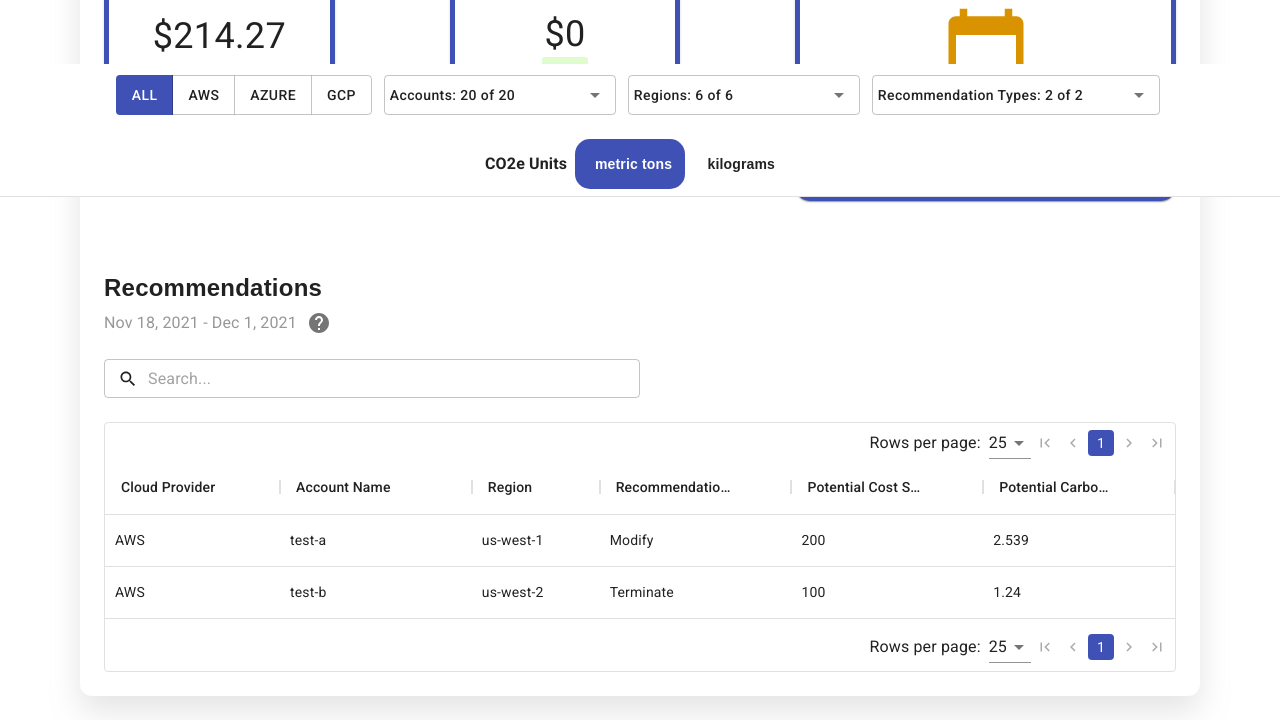
Scenario: Recommendations Page › re-displays the side panel when the close button and then the same recommendation row is clicked
(page scrolled)
Click the text "test-a" at [376, 541], box [280, 515, 472, 567]
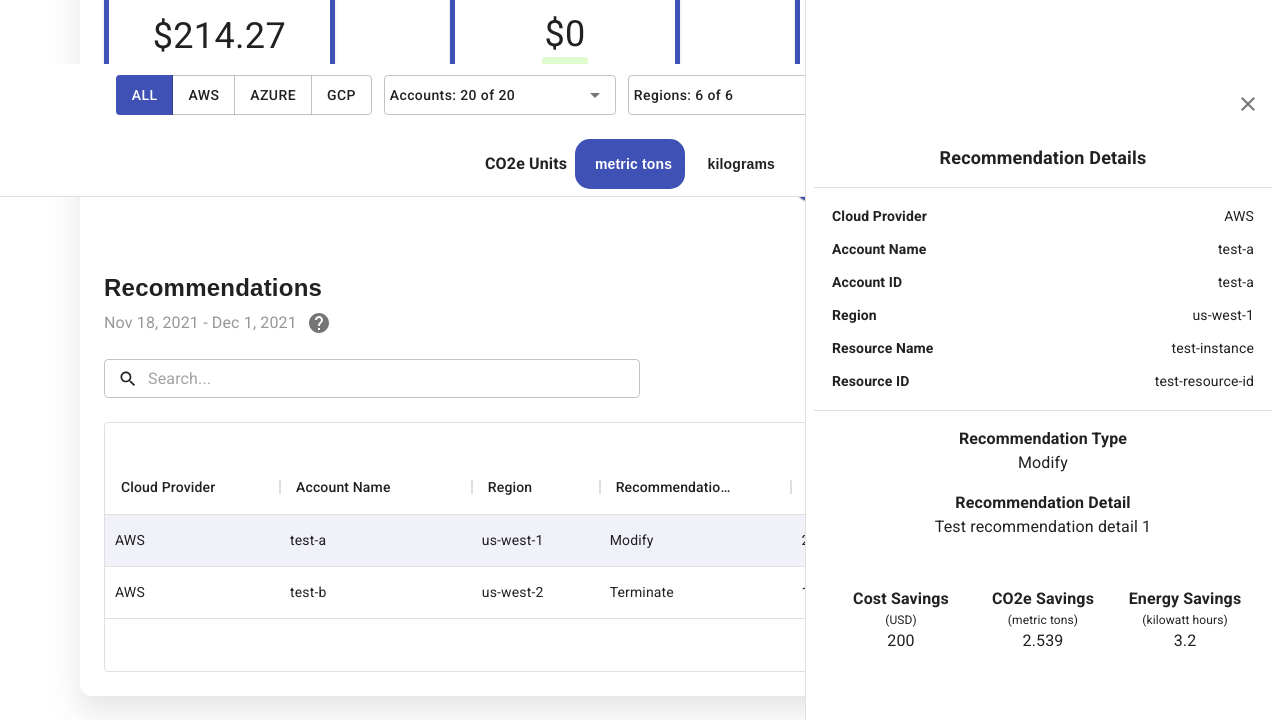
Click the button with test id "closeIcon" at [1248, 104], box [1224, 80, 1272, 128]
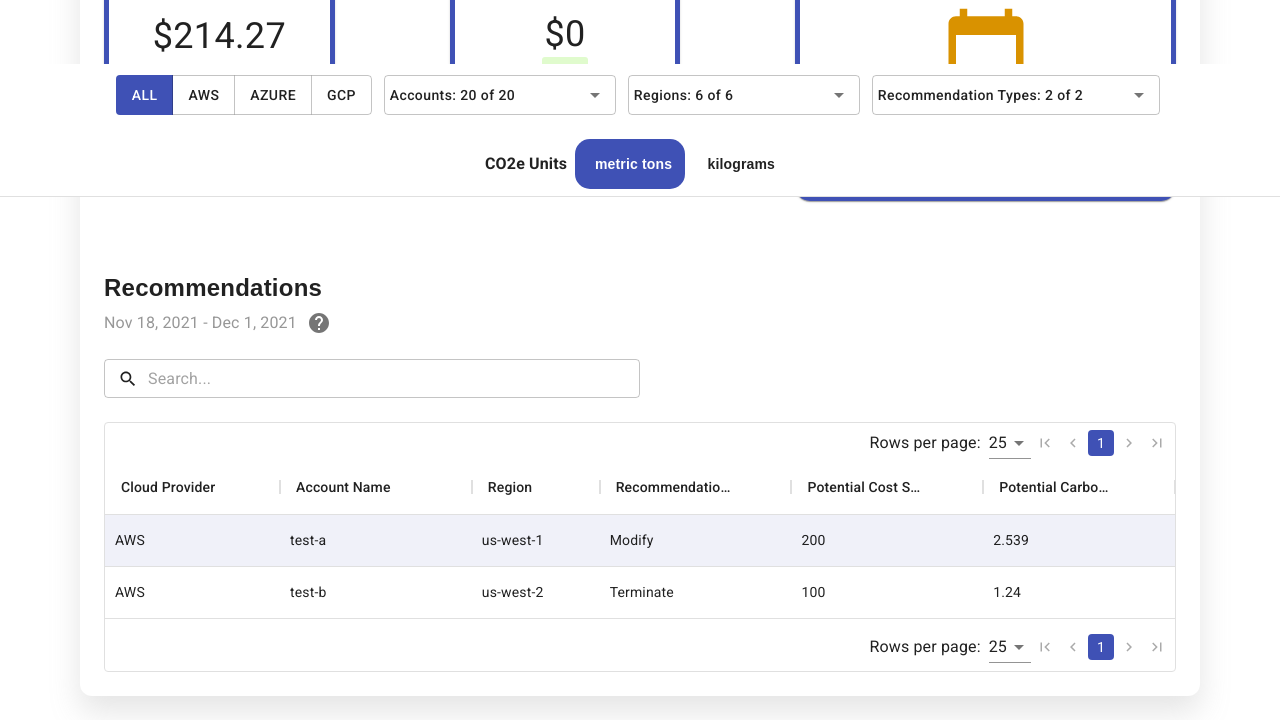
Click the text "test-a" at [376, 541], box [280, 515, 472, 567]
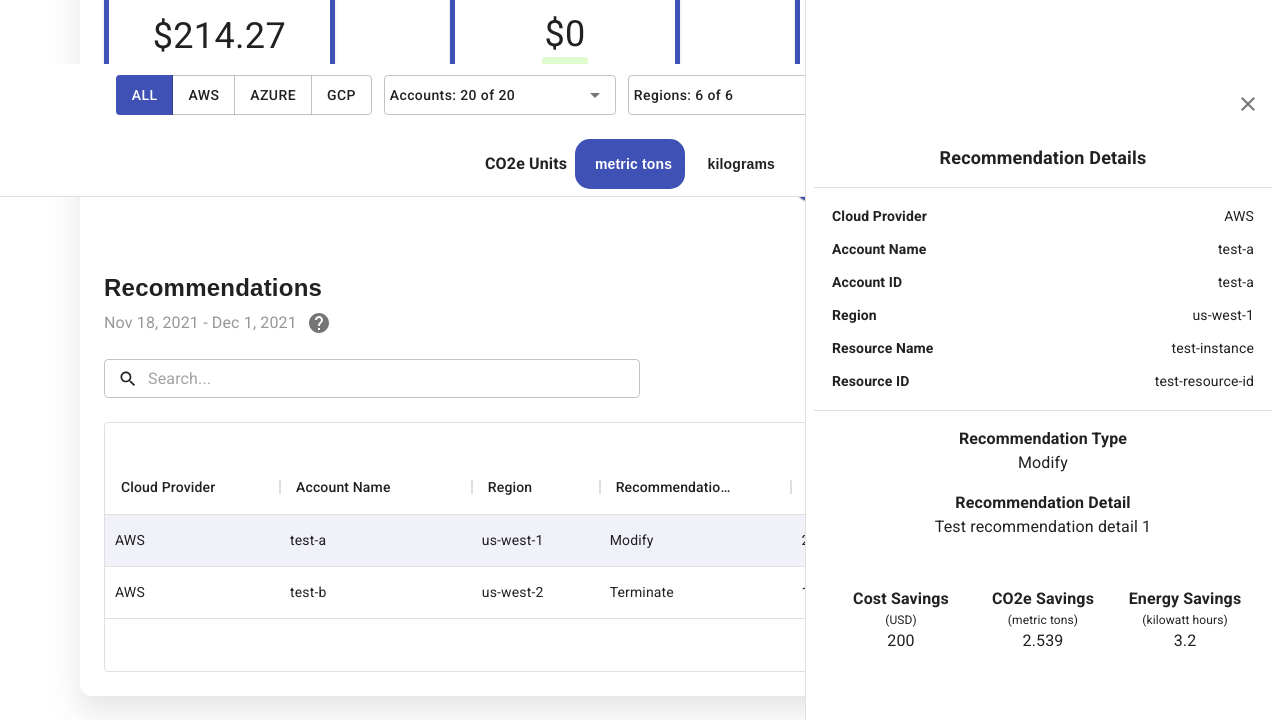
Now the heading "Recommendation Details" is shown, box [940, 147, 1146, 168]
Now the text "Test recommendation detail 1" is shown, box [935, 515, 1151, 539]
